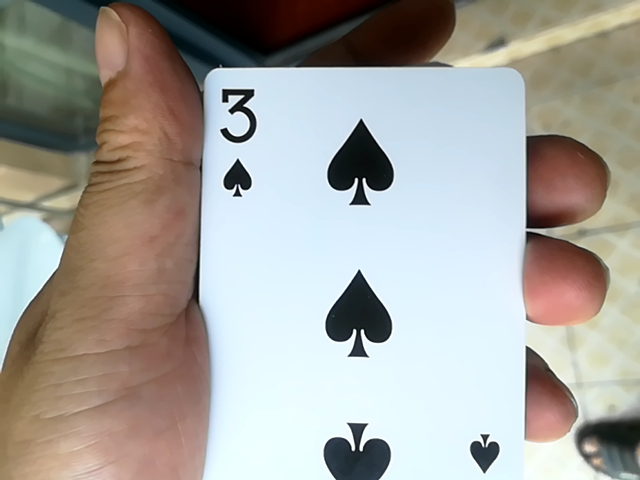ht 3: (183, 56, 538, 476)
